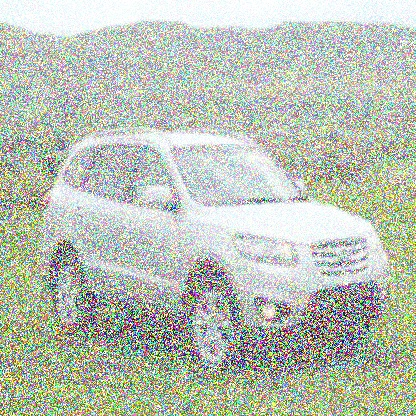Vehicle: (41, 126, 391, 374)
